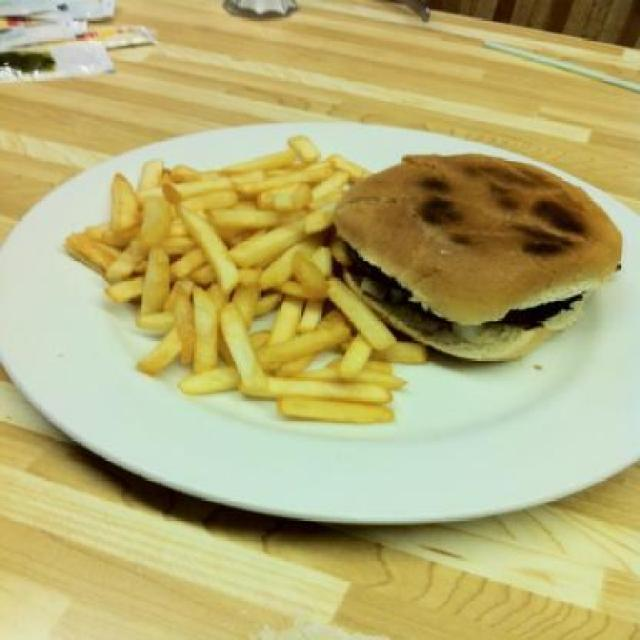Burger: (337, 152, 625, 363)
